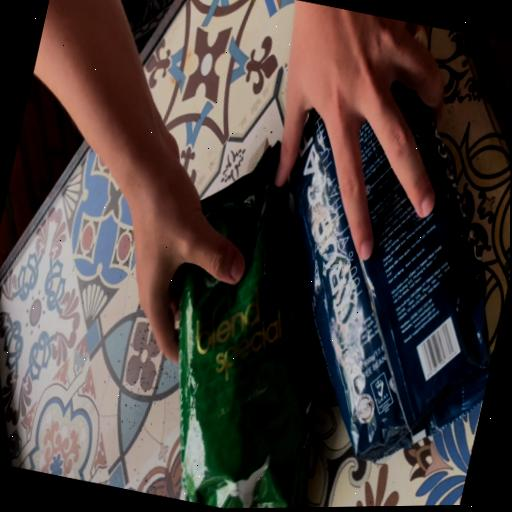cafe_hat: (290, 83, 492, 459)
cafe_xay: (178, 144, 311, 509)
